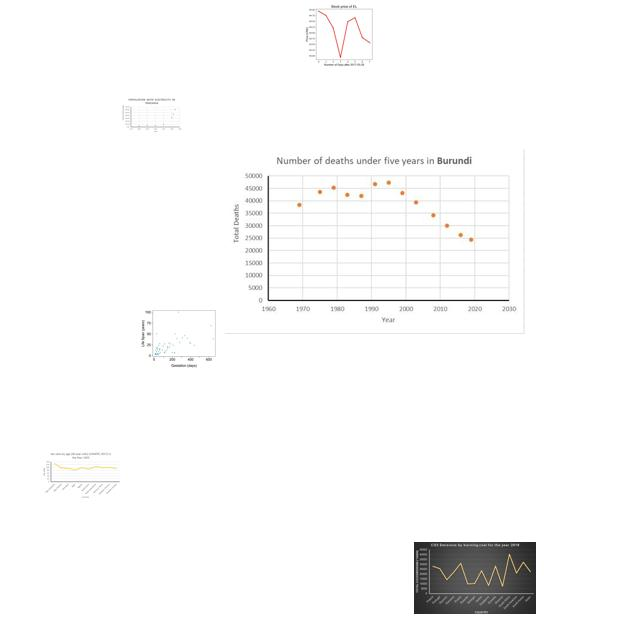Graph: (225, 149, 525, 334), (414, 542, 536, 614), (299, 1, 387, 67), (140, 308, 216, 369), (41, 451, 120, 499), (121, 97, 183, 134)
